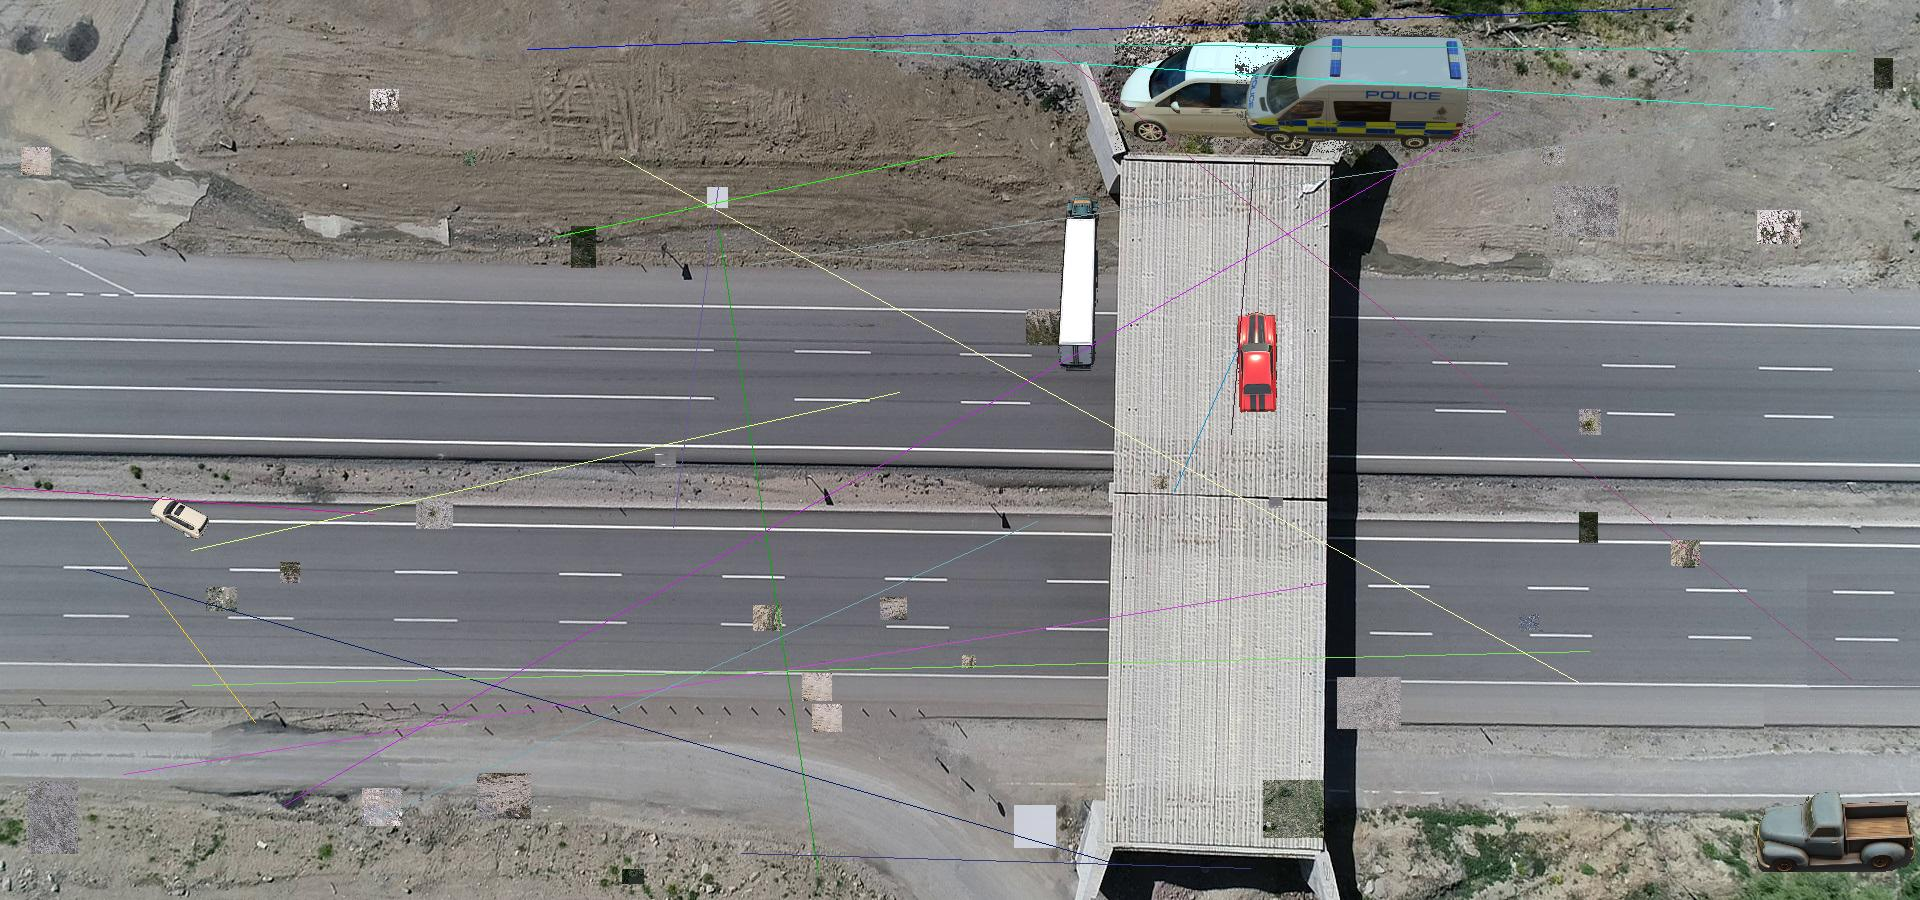arac: (1236, 28, 1474, 152), (1116, 40, 1353, 153), (1755, 792, 1915, 872), (1052, 193, 1100, 371), (1233, 310, 1282, 415), (148, 493, 211, 539)
